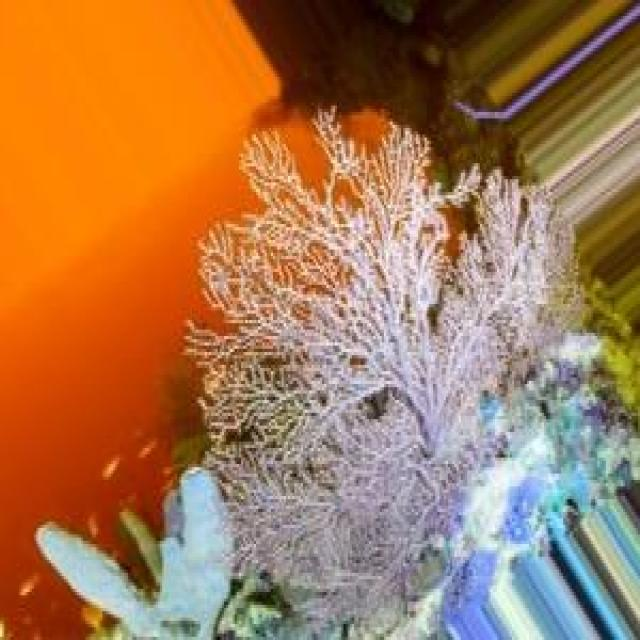Healthy: (189, 110, 635, 640), (44, 468, 236, 640)
